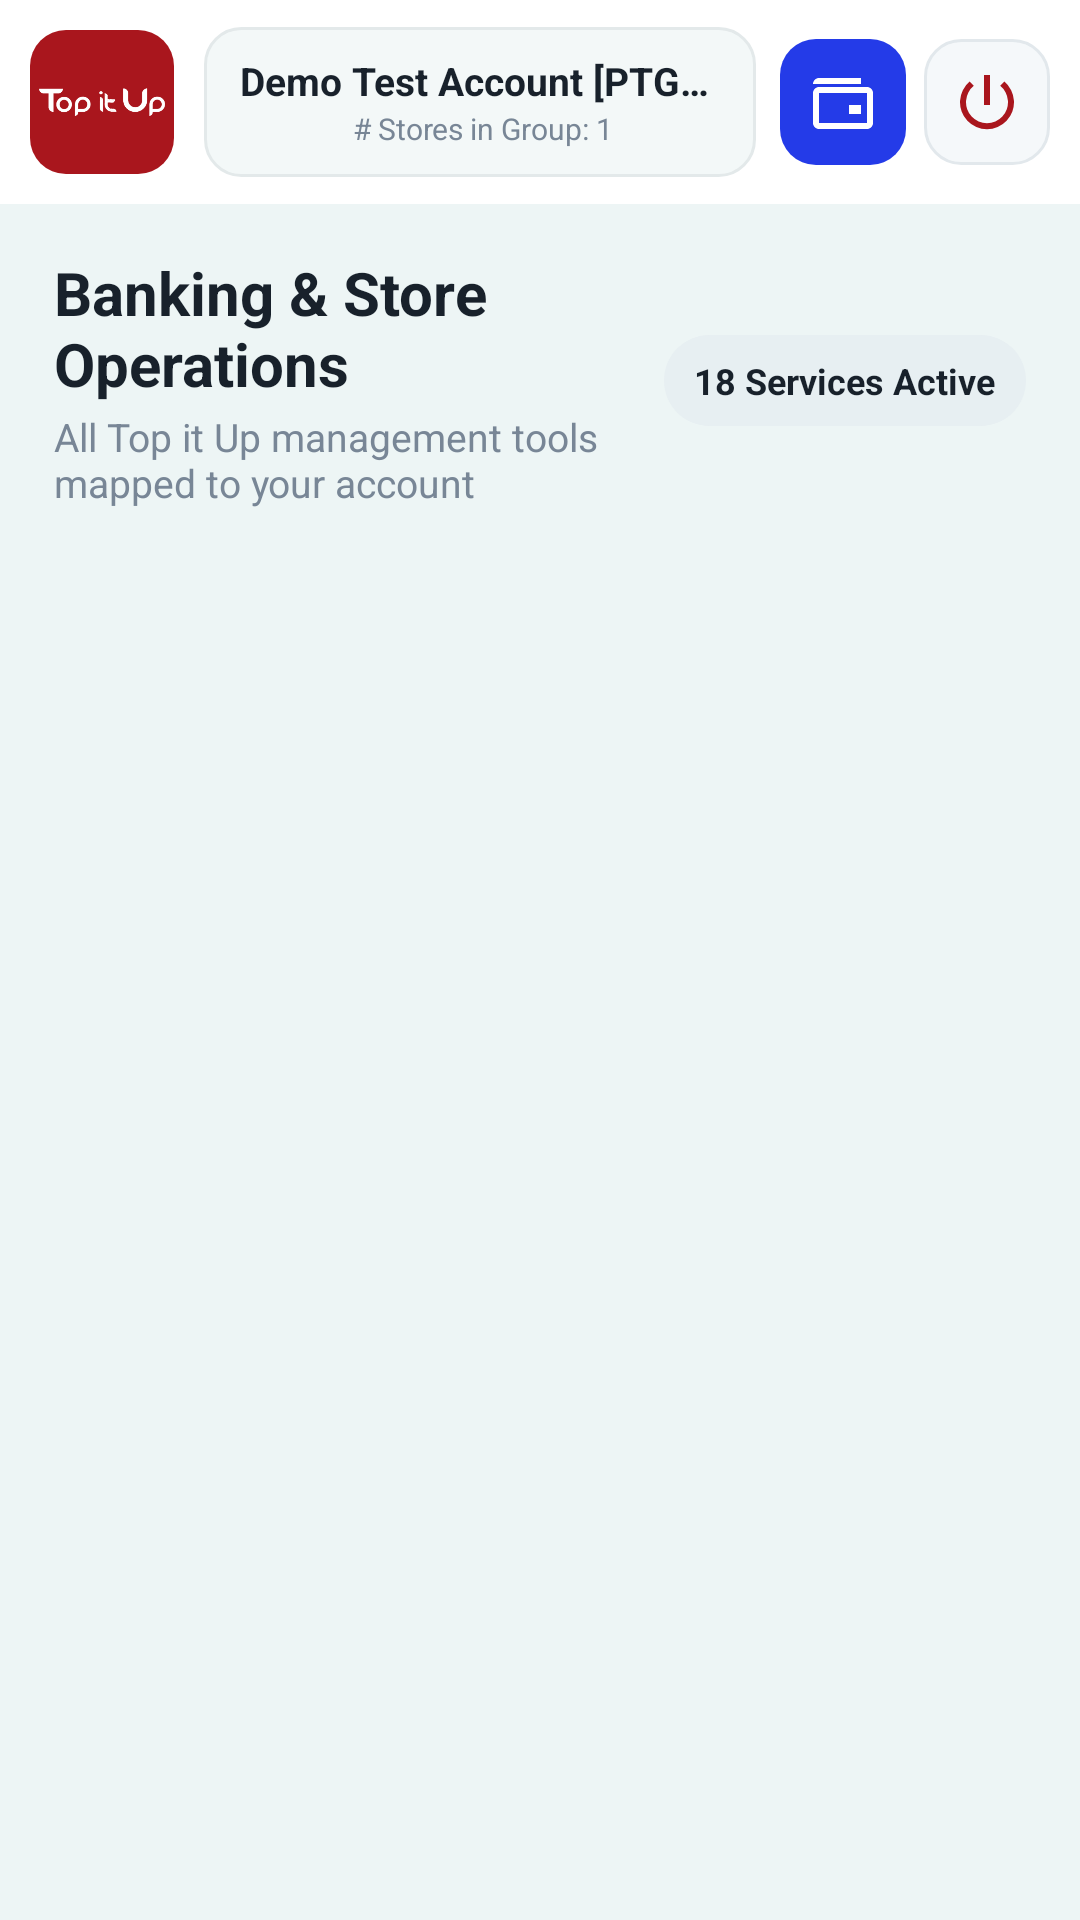

Icon click points for this 1080 x 1920 phone screenshot, format (x,y):
Log out: (987,102)
